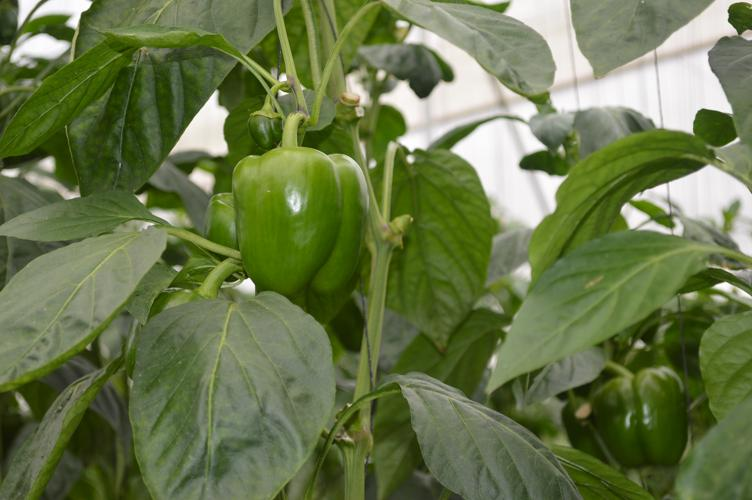BellPepper: (226, 151, 373, 300), (578, 369, 702, 470)
